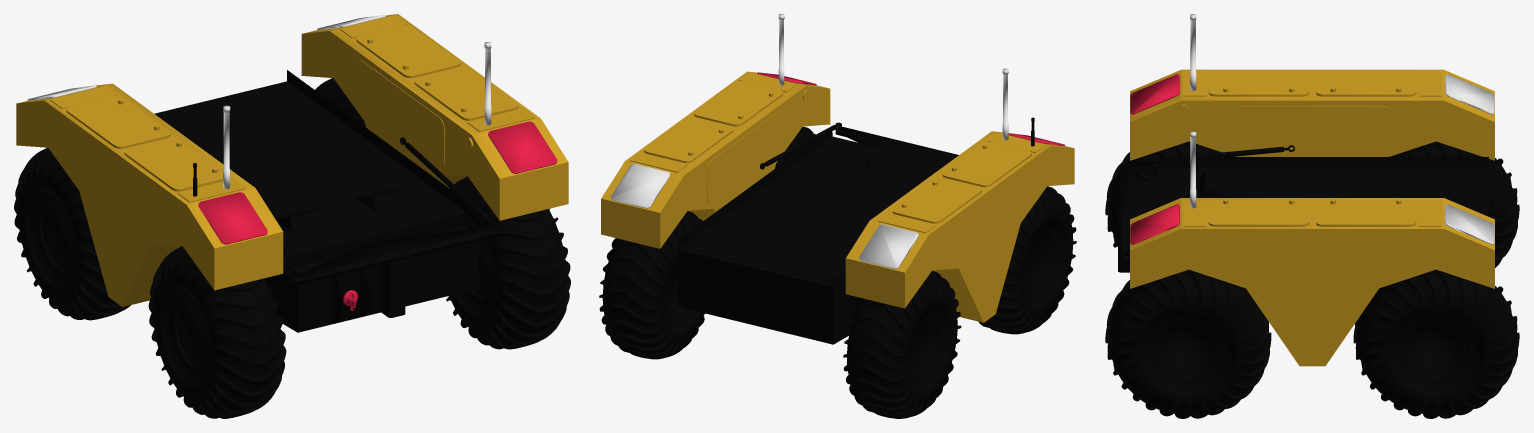
Rendered from warthog-transformed.glb.
3 views of the same model, side by side, from view 1: azimuth 30°, elevation 25°; view 2: azimuth 150°, elevation 25°; view 3: azimuth 270°, elevation 25° (orthographic). The views are drawn at different scales.
Visible parts, largest first — view 1: fenders, chassis, Wheel RL, Wheel RR, Wheel FL, Rear Headlight, diff-link, antenna_left, susp-link, Wheel FR, Front Headlight; view 2: fenders, chassis, Wheel FL, Wheel FR, Wheel RL, Front Headlight, diff-link, antenna_left, susp-link; view 3: fenders, Wheel RR, Wheel FR, chassis, Wheel FL, Rear Headlight, Front Headlight, Wheel RL, diff-link, antenna_left, susp-link.
Part boxes in pixels (bbox=[...]): fenders: bbox=[16, 14, 568, 306]; chassis: bbox=[154, 70, 478, 332]; Wheel RL: bbox=[148, 246, 286, 418]; Wheel RR: bbox=[446, 176, 570, 349]; Wheel FL: bbox=[14, 147, 130, 320]; Rear Headlight: bbox=[198, 121, 557, 244]; diff-link: bbox=[290, 226, 497, 284]; antenna_left: bbox=[223, 42, 491, 189]; susp-link: bbox=[283, 137, 495, 274]; Wheel FR: bbox=[315, 78, 365, 126]; Front Headlight: bbox=[27, 15, 386, 100]; fenders: bbox=[601, 71, 1074, 322]; chassis: bbox=[678, 129, 945, 344]; Wheel FL: bbox=[843, 271, 961, 418]; Wheel FR: bbox=[599, 211, 705, 359]; Wheel RL: bbox=[978, 186, 1076, 334]; Front Headlight: bbox=[610, 163, 918, 269]; diff-link: bbox=[835, 126, 958, 164]; antenna_left: bbox=[778, 14, 1008, 140]; susp-link: bbox=[760, 122, 841, 169]; fenders: bbox=[1130, 69, 1494, 366]; Wheel RR: bbox=[1105, 269, 1271, 418]; Wheel FR: bbox=[1353, 269, 1519, 418]; chassis: bbox=[1118, 157, 1488, 315]; Wheel FL: bbox=[1389, 141, 1519, 267]; Rear Headlight: bbox=[1130, 74, 1179, 244]; Front Headlight: bbox=[1445, 74, 1494, 244]; Wheel RL: bbox=[1105, 141, 1235, 247]; diff-link: bbox=[1119, 167, 1153, 264]; antenna_left: bbox=[1190, 14, 1196, 208]; susp-link: bbox=[1124, 145, 1294, 255].
Bounding box in the file's own units: 1.38 × 1.11 × 1.52.
